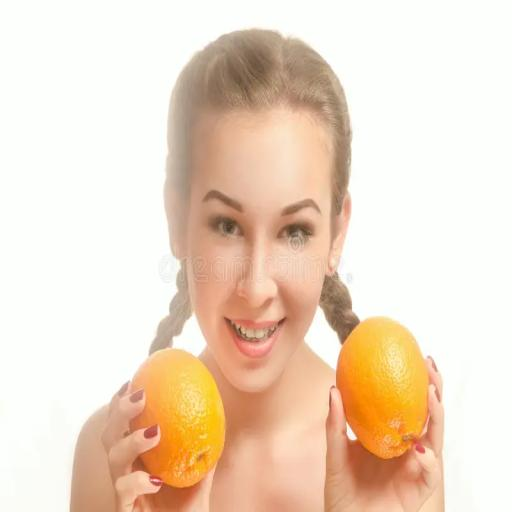orange: (336, 317, 429, 459), (130, 349, 225, 487)
